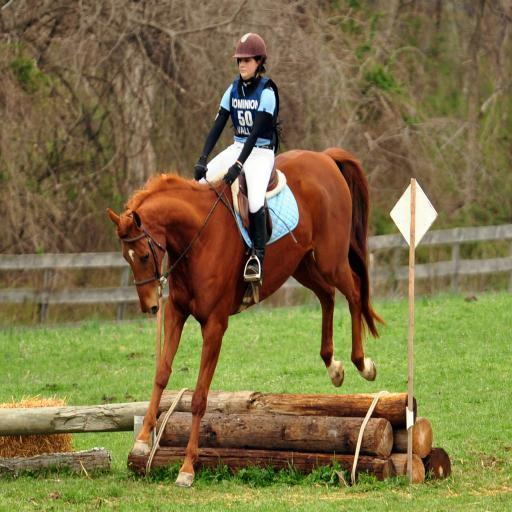horse: (104, 147, 388, 486)
